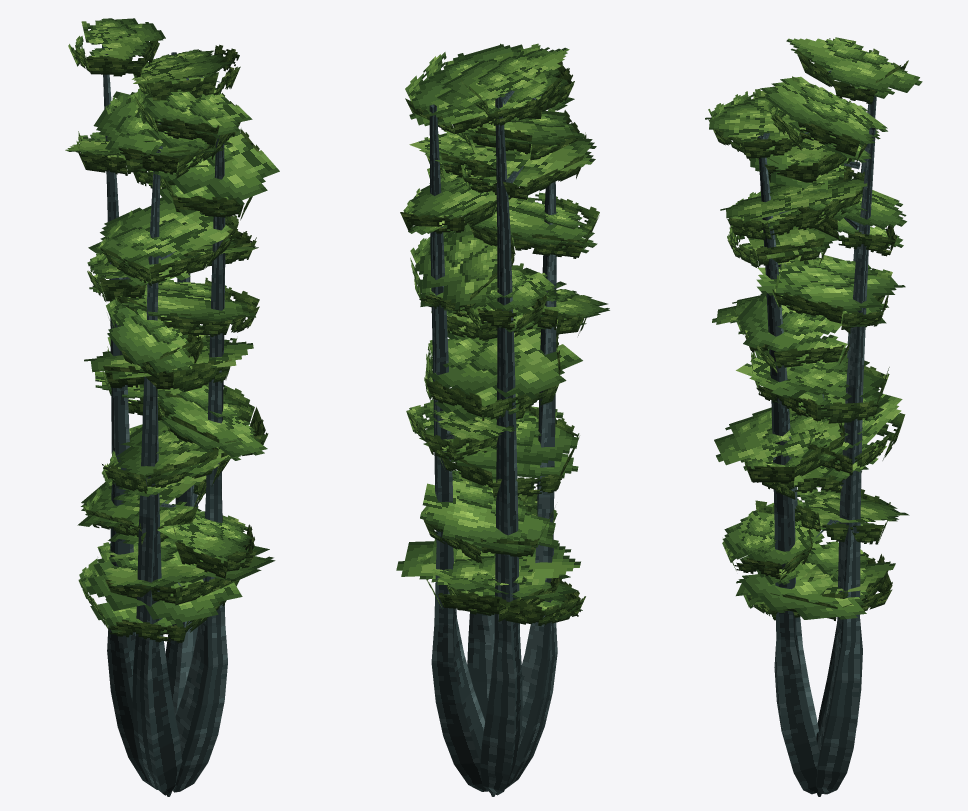
Rendered from rct2.scenery_small.tcl.glb.
The picture shows the model from 3 angles, left to right: view 1: azimuth 30°, elevation 25°; view 2: azimuth 150°, elevation 25°; view 3: azimuth 270°, elevation 25°; orthographic projection. The views are drawn at different scales.
Visible parts, largest first — view 1: rct2.scenery_small.tcl; view 2: rct2.scenery_small.tcl; view 3: rct2.scenery_small.tcl.
Boxes of the visible parts, x1=… form: rct2.scenery_small.tcl: x1=65, y1=18, x2=279, y2=796; rct2.scenery_small.tcl: x1=396, y1=43, x2=609, y2=796; rct2.scenery_small.tcl: x1=705, y1=37, x2=922, y2=796.
Size of the model in its own units: 1.67 by 5.05 by 1.67.
Materials: 1 (1 with a texture image).
